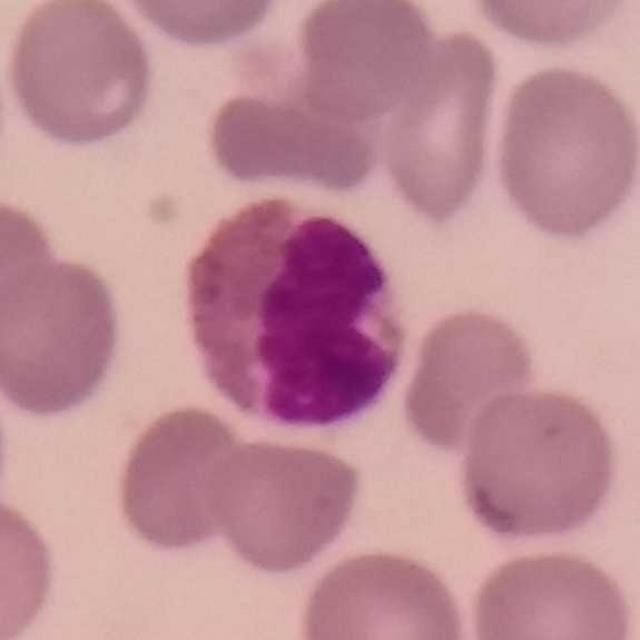Eosinophil: (179, 193, 415, 430)
RBC: (486, 59, 640, 245), (452, 382, 622, 549), (375, 21, 508, 227), (200, 430, 368, 578), (109, 400, 264, 558), (200, 74, 388, 200), (1, 0, 158, 150), (396, 302, 543, 459), (0, 250, 130, 422), (288, 1, 445, 123), (294, 543, 474, 640), (465, 543, 637, 640), (0, 190, 65, 361), (461, 0, 639, 53), (0, 489, 62, 640), (109, 0, 287, 51)
